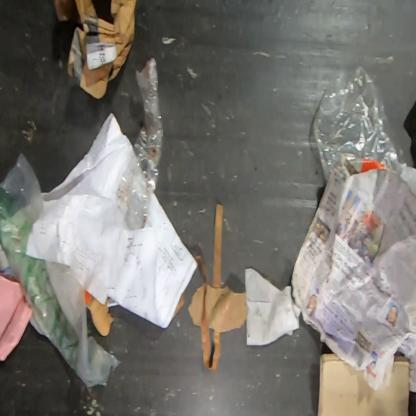cardboard: (53, 0, 137, 100), (316, 350, 411, 415), (205, 283, 246, 333), (86, 296, 116, 339), (188, 282, 204, 327)
soft_plastic: (0, 151, 124, 389), (312, 65, 408, 184), (114, 56, 164, 232)
